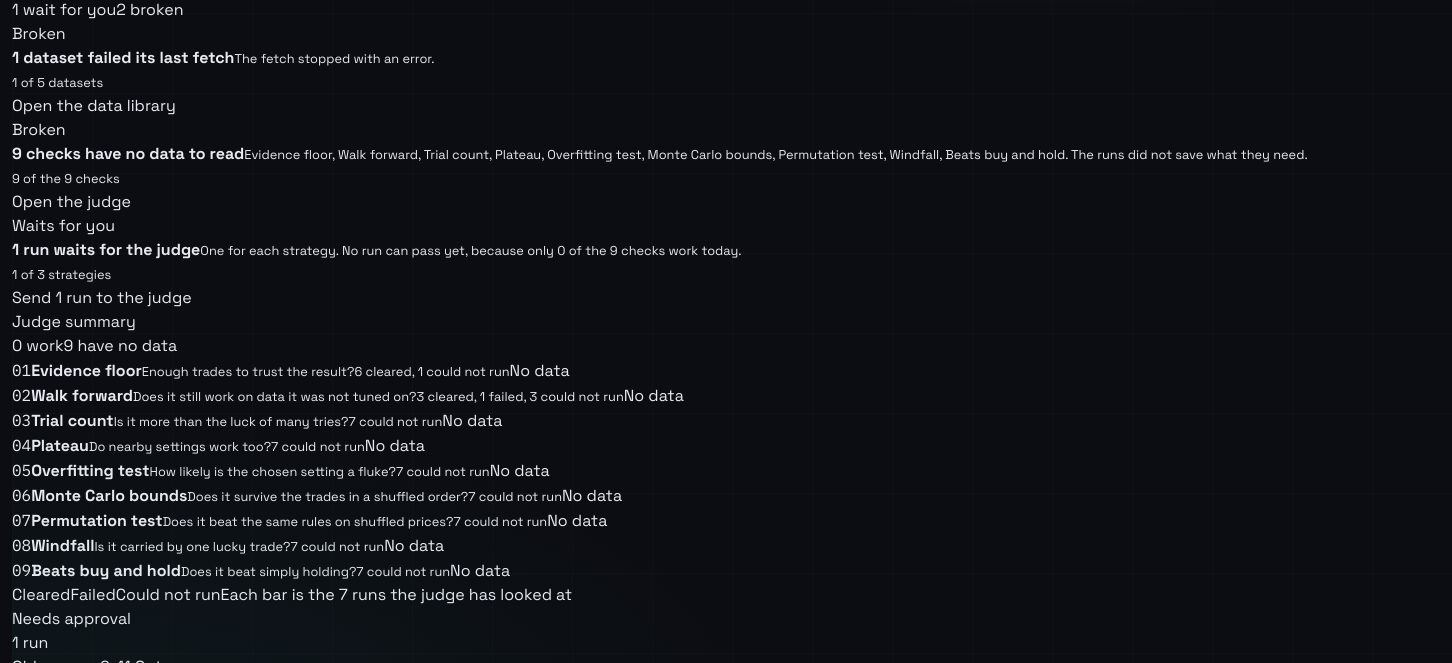
it: Research overview, new look › (i) Open the judge opens the judge
Click the button "Open the judge" at (72, 202), box [12, 190, 131, 214]
(page scrolled)
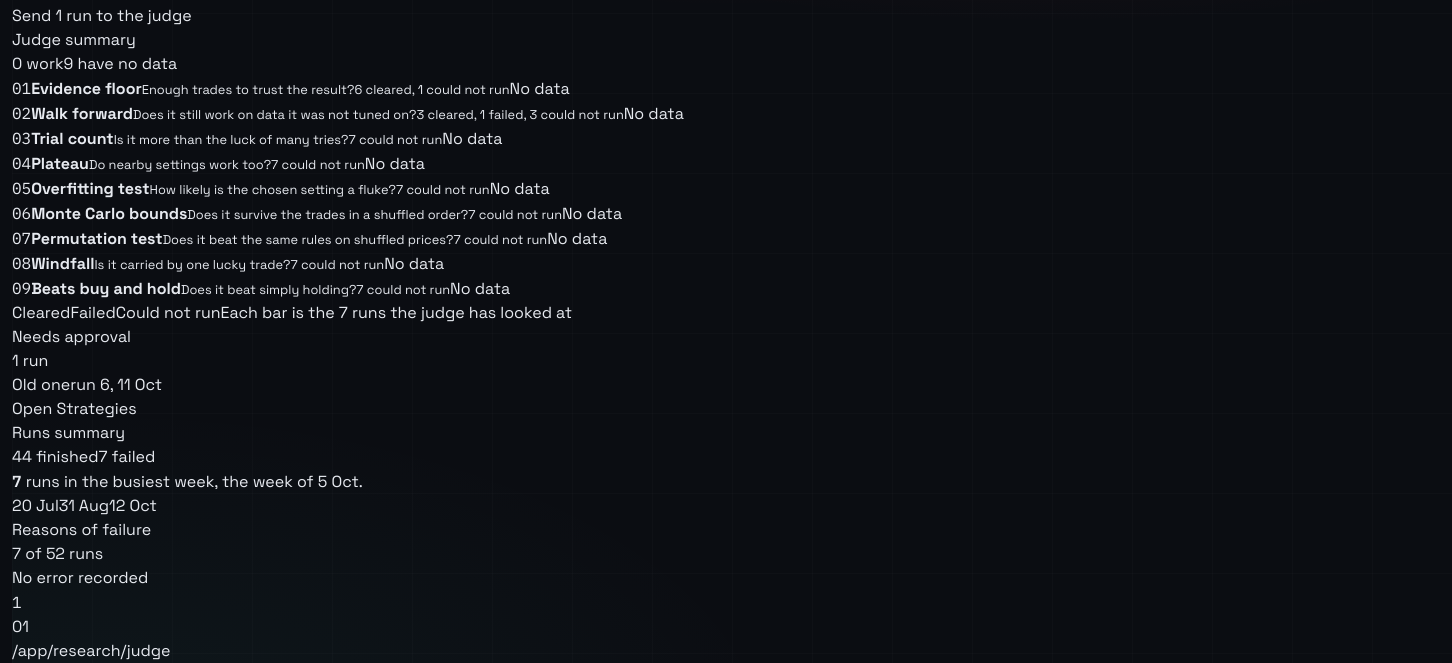
Now the text with test id "where" reads "/app/research/judge", box [12, 640, 171, 661]
